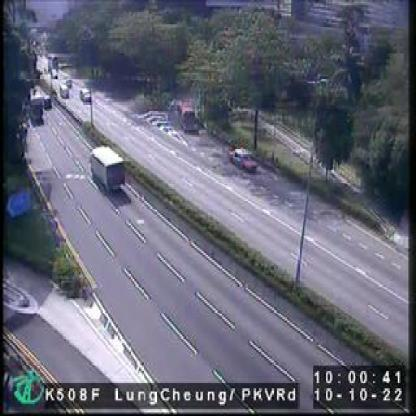Car: (230, 147, 260, 173), (78, 87, 92, 103)
Truck: (90, 146, 126, 192), (177, 100, 201, 132)
